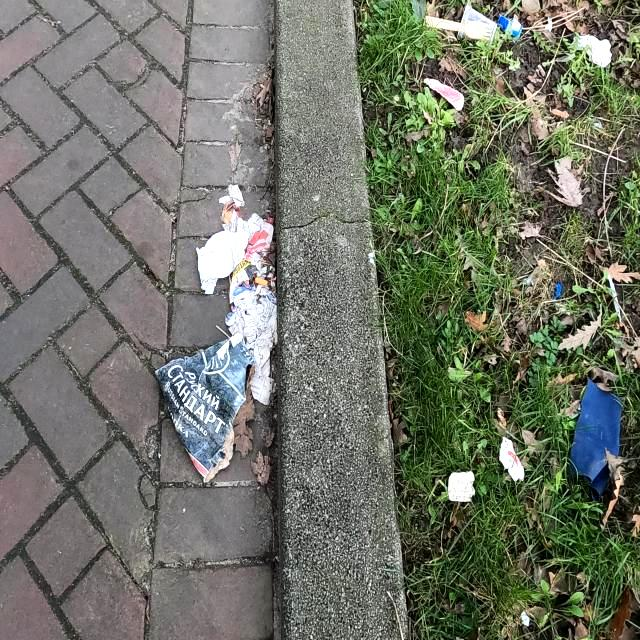Coffee Cup: (462, 1, 498, 47)
Paper: (568, 376, 622, 504), (574, 32, 612, 68)
Plastic: (498, 436, 526, 482)
